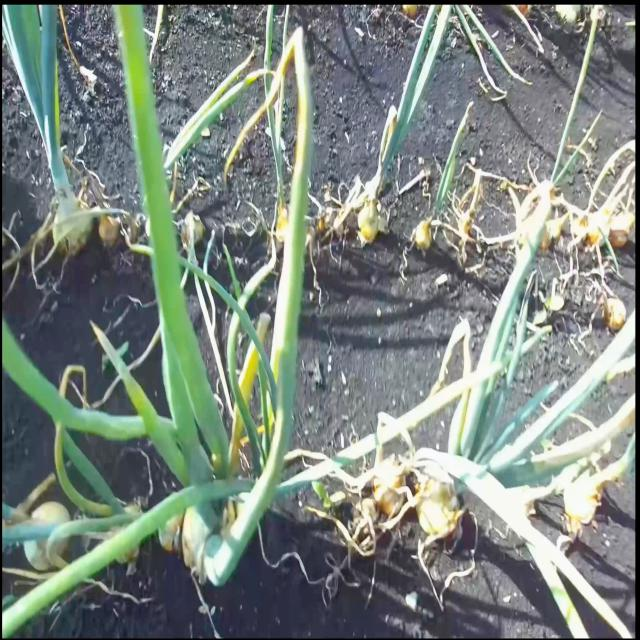onion: (416, 458, 466, 550), (25, 506, 68, 577), (50, 189, 90, 256)
